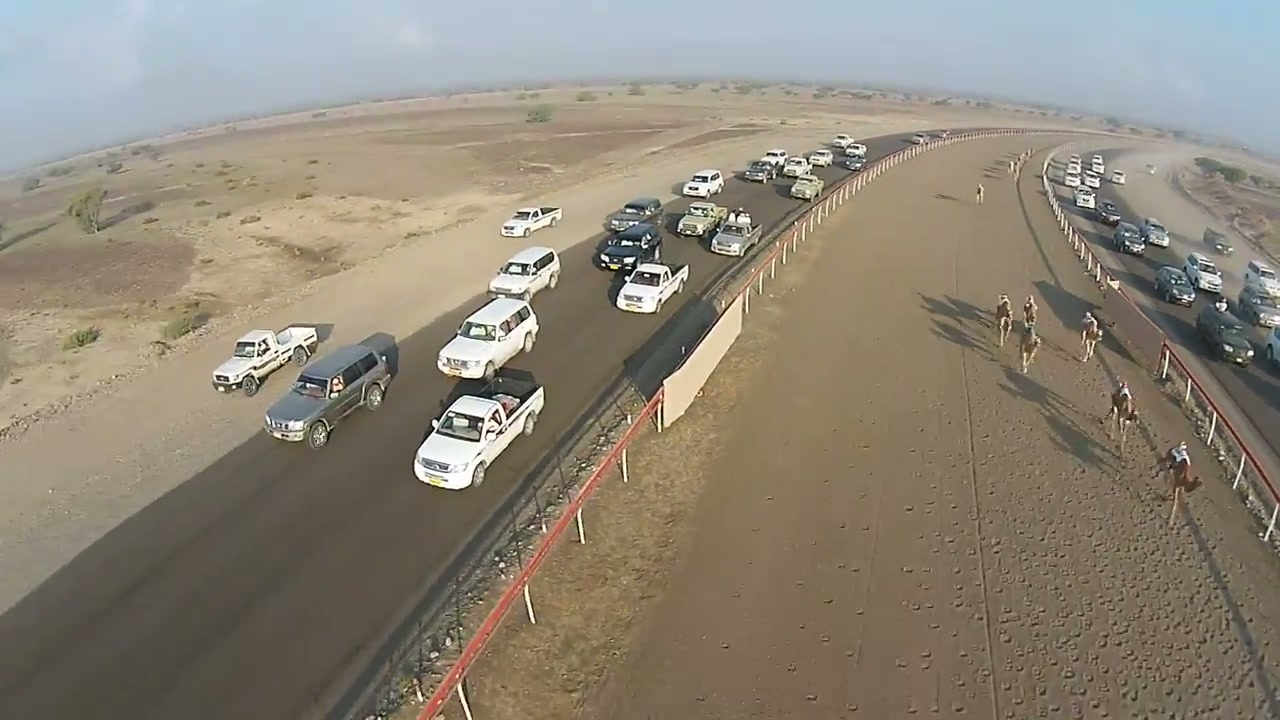animal_foot_print: (1016, 404, 1264, 719)
